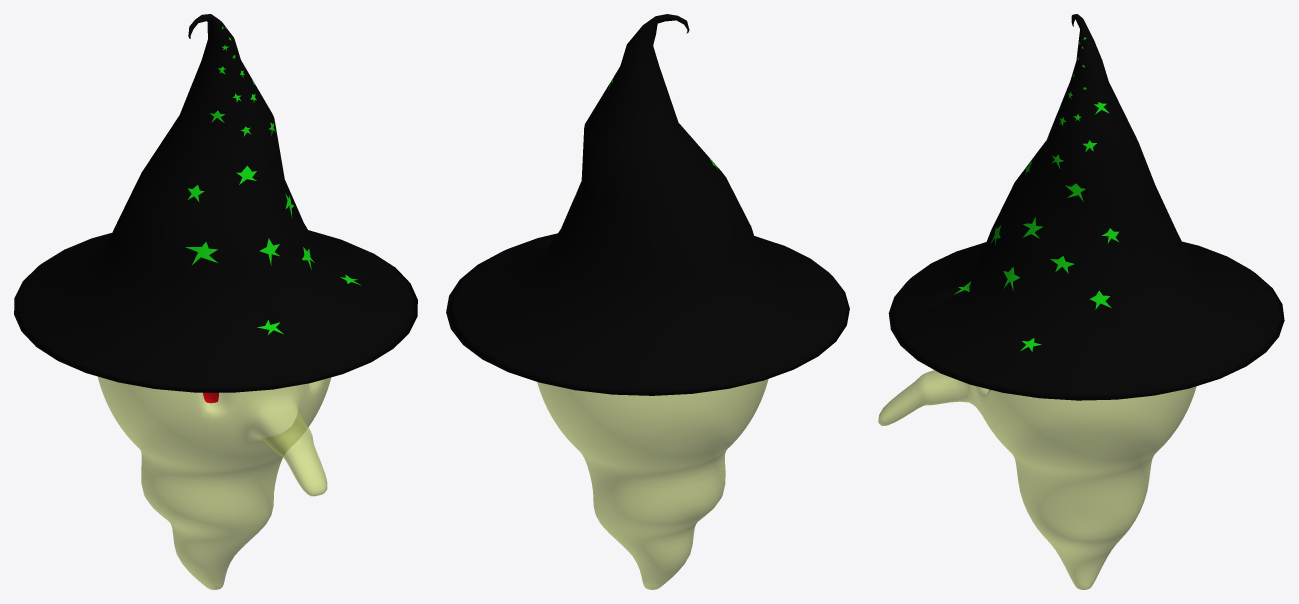
The model's file is AlchFamGhost.fbx.
3 views of the same model, side by side, from view 1: azimuth 30°, elevation 25°; view 2: azimuth 150°, elevation 25°; view 3: azimuth 270°, elevation 25° (orthographic). The views are drawn at different scales.
Visible parts, largest first — view 1: Cylinder.001, Sphere; view 2: Cylinder.001, Sphere; view 3: Cylinder.001, Sphere.
Part boxes in pixels (x1,y1,x2,y2): Cylinder.001: [14, 14, 417, 392]; Sphere: [97, 376, 331, 589]; Cylinder.001: [446, 14, 849, 395]; Sphere: [537, 379, 768, 589]; Cylinder.001: [888, 14, 1284, 400]; Sphere: [878, 370, 1196, 589].
Size of the model in its own units: 328 by 517 by 336.
